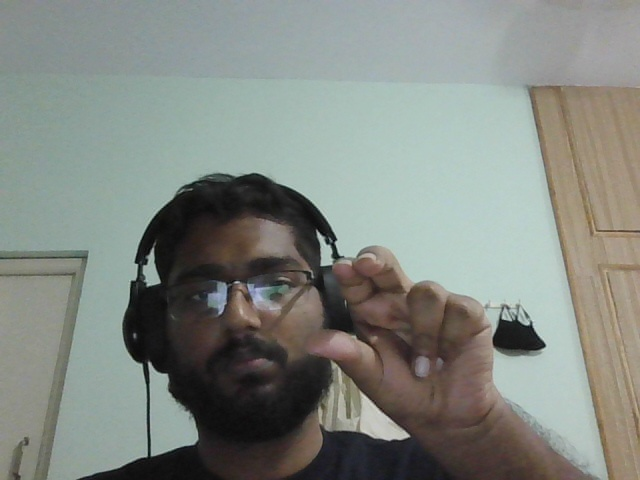No: (294, 242, 517, 439)
